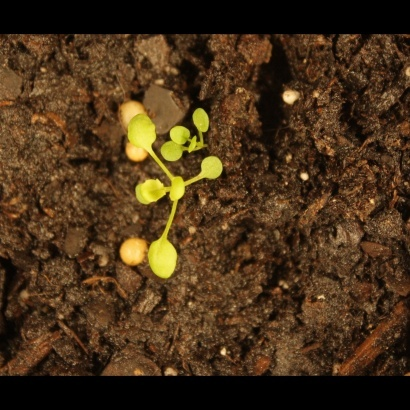leaf: (143, 235, 181, 282), (123, 109, 158, 155), (131, 176, 167, 210), (165, 174, 193, 205), (199, 154, 227, 182), (189, 108, 216, 135), (171, 123, 194, 146), (161, 140, 184, 163), (186, 133, 209, 156)
